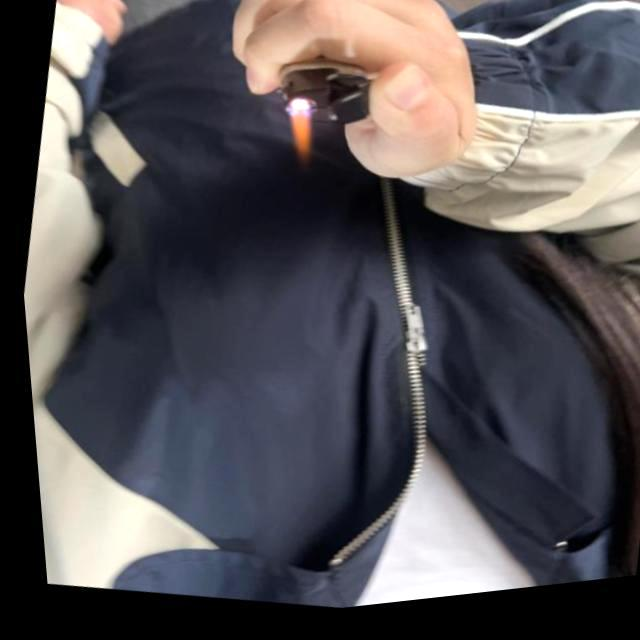fire: (272, 100, 320, 172)
